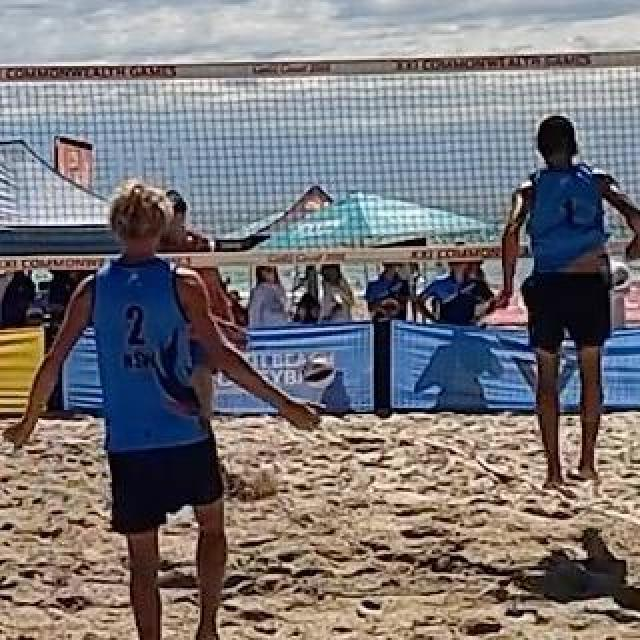volleyball: (303, 356, 335, 388)
